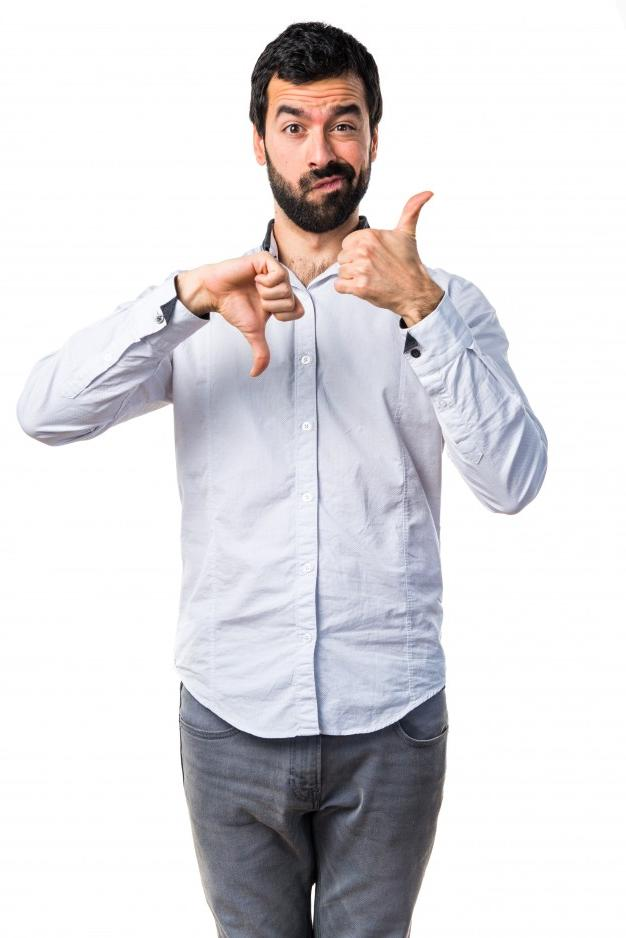thumbsup: (334, 190, 434, 295)
